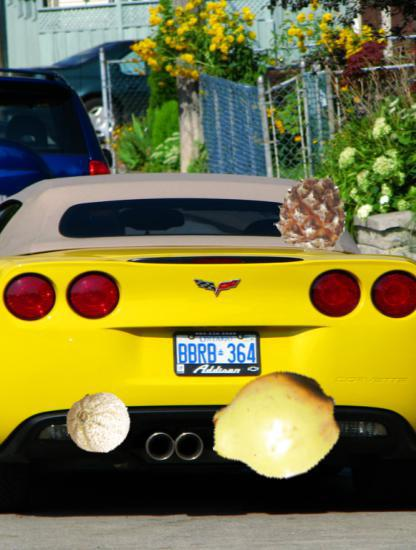Cantaloupe: (66, 390, 132, 456)
Pineapple: (270, 171, 352, 253)
Quince: (209, 361, 340, 492)
